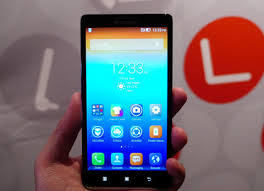lenovo: (78, 11, 175, 190)
